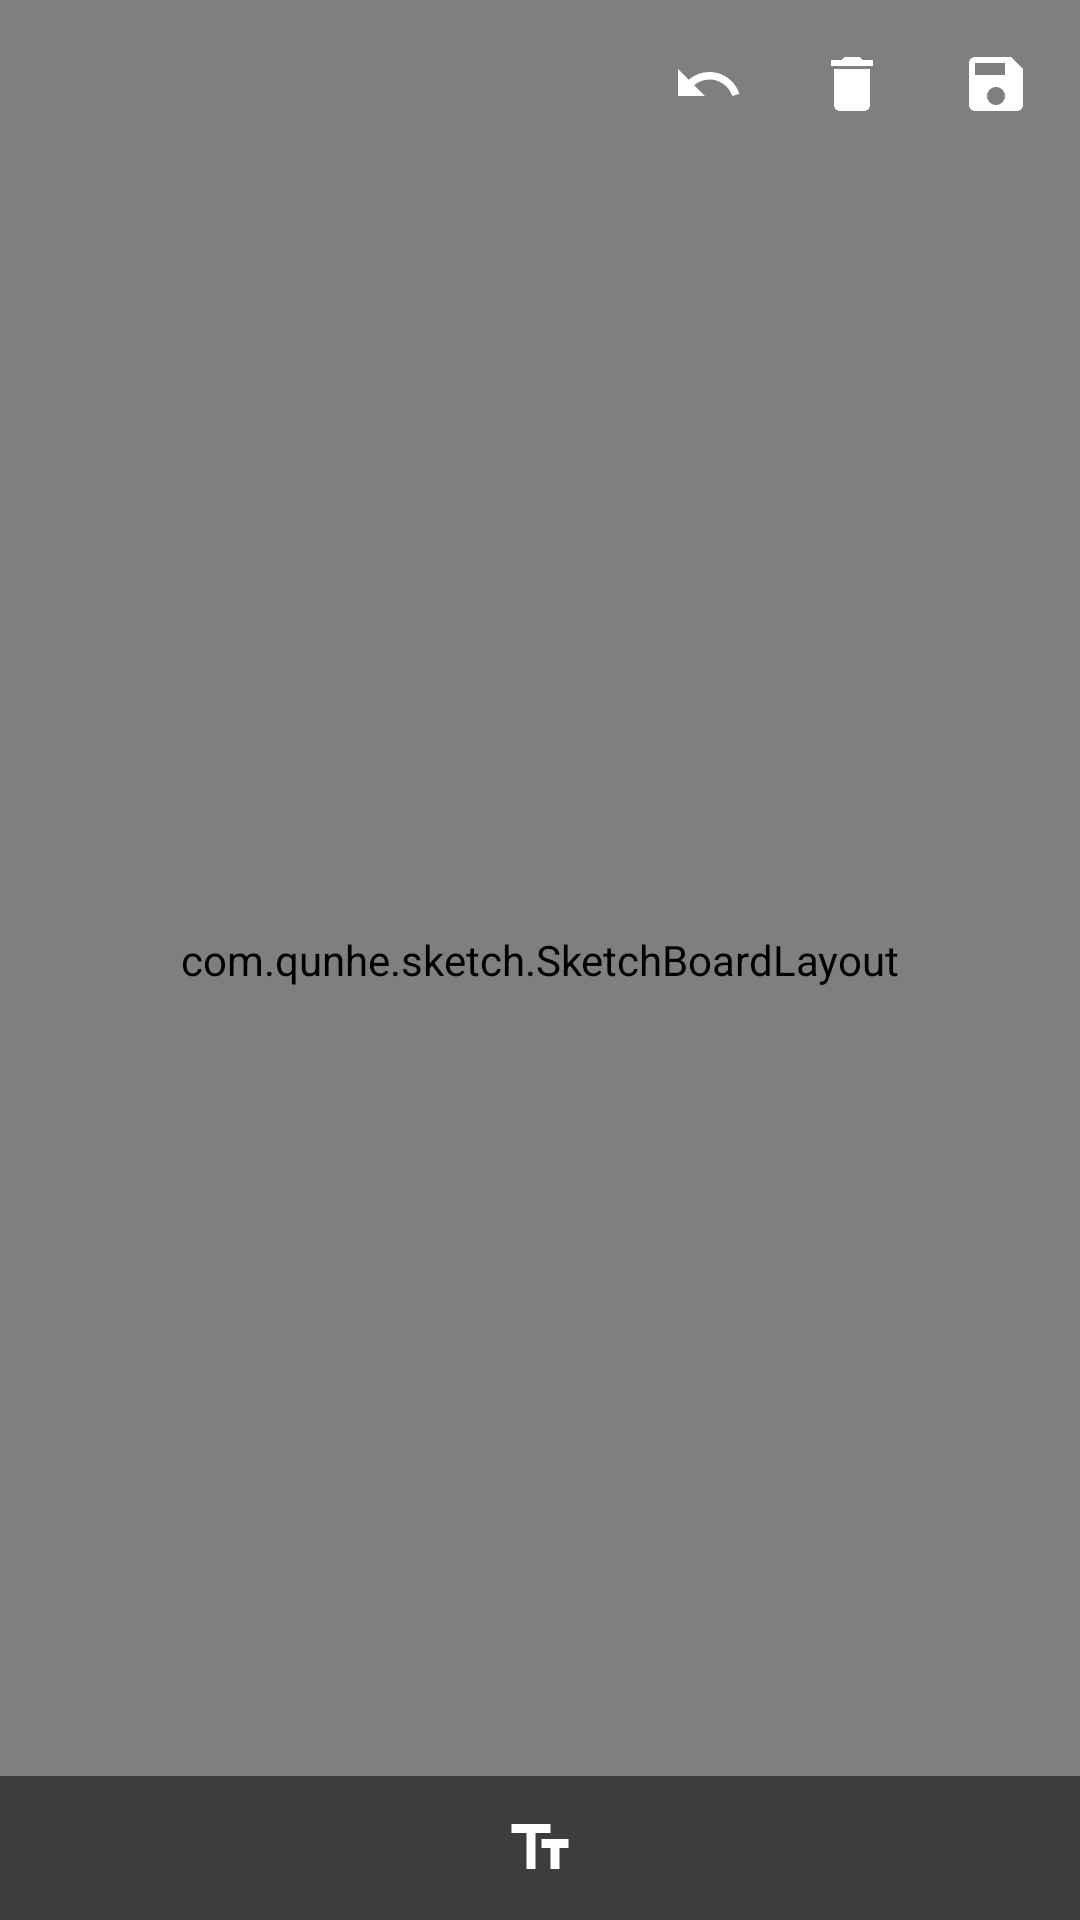

Where icons sit on this 1080px x 1920px app screen, as bbox=(x1, y1, x2, y2):
sketch save: bbox=(969, 57, 1023, 111)
sketch type text: bbox=(511, 1824, 569, 1869)
sketch undo: bbox=(678, 69, 740, 96)
